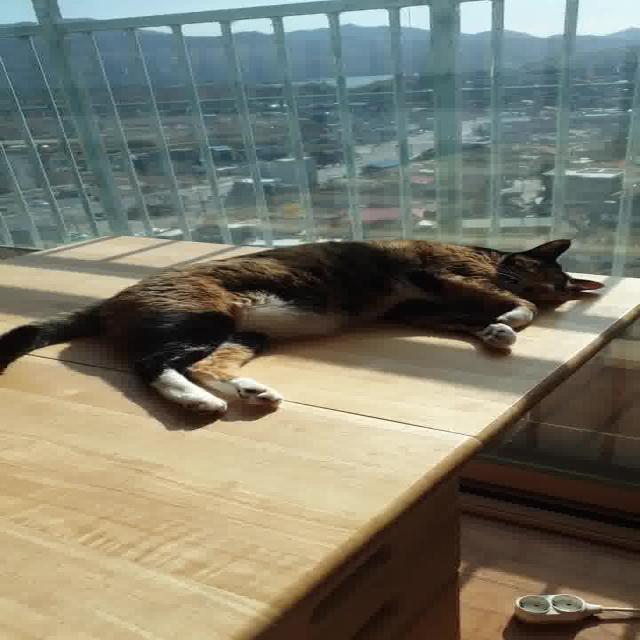cat: (1, 233, 640, 426)
